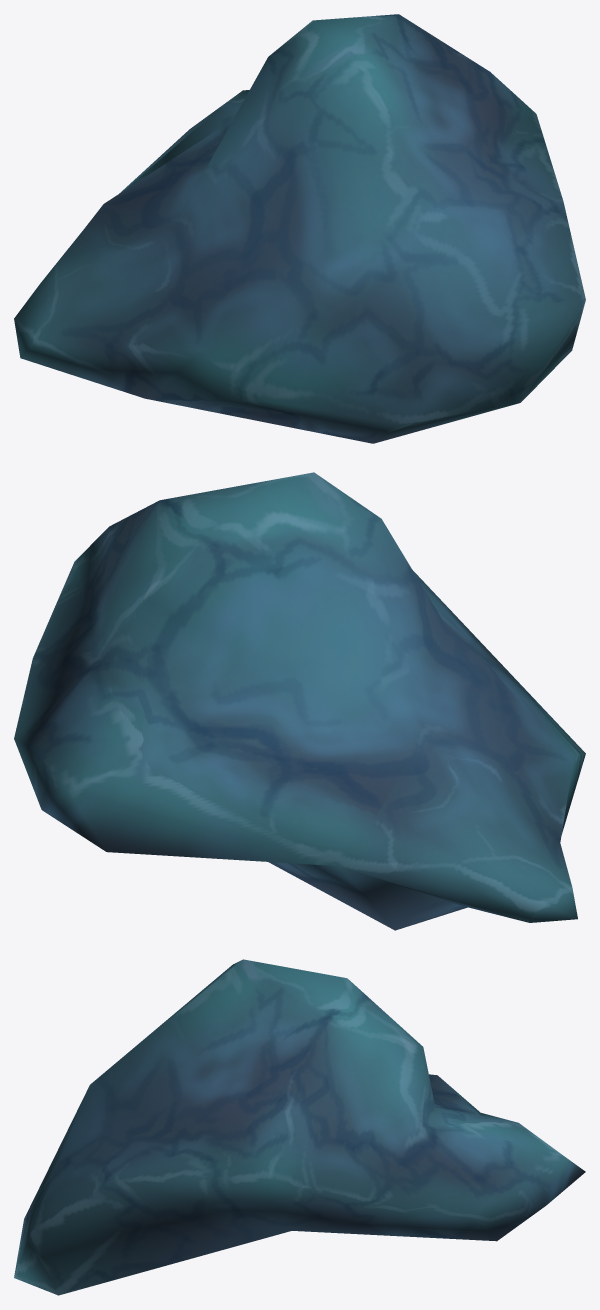
The model's file is Rock.005.fbx.
3 views of the same model, one above another, from view 1: azimuth 30°, elevation 25°; view 2: azimuth 150°, elevation 25°; view 3: azimuth 270°, elevation 25° (orthographic). The views are drawn at different scales.
Visible parts, largest first — view 1: rock.005; view 2: rock.005; view 3: rock.005.
Part boxes in pixels (box(x1,y1,x2,y2)): rock.005: box(14, 14, 585, 443); rock.005: box(14, 472, 585, 930); rock.005: box(14, 959, 585, 1295).
Size of the model in its own units: 63.23 by 41.03 by 65.
